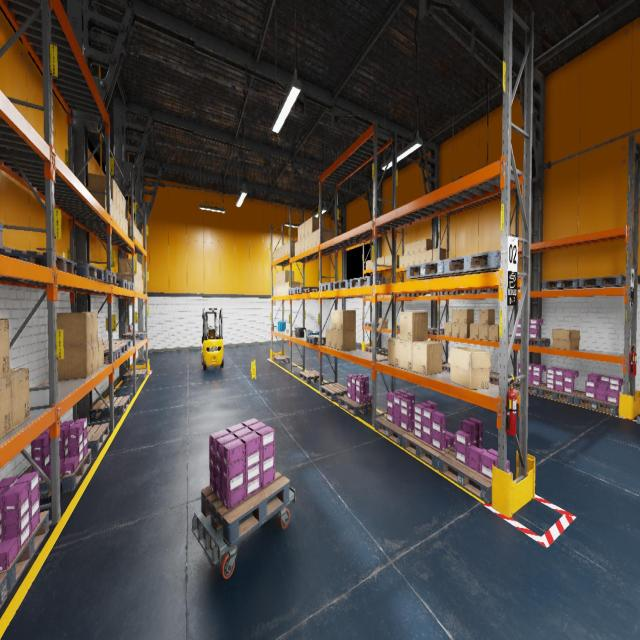box: (448, 347, 491, 389), (58, 343, 93, 381), (10, 368, 30, 430), (56, 312, 92, 346), (63, 312, 98, 342), (412, 340, 442, 375), (88, 173, 116, 205), (400, 312, 428, 341), (0, 375, 11, 438), (551, 329, 580, 350), (0, 318, 10, 378), (85, 186, 106, 211), (336, 330, 356, 351), (399, 340, 412, 371), (336, 310, 356, 330), (388, 337, 399, 367), (119, 258, 137, 276), (308, 216, 324, 235), (317, 227, 333, 245), (479, 309, 495, 325), (459, 309, 474, 323), (459, 323, 473, 338), (98, 339, 104, 369), (488, 325, 499, 341), (93, 340, 98, 372), (420, 239, 432, 252), (115, 273, 132, 282), (288, 282, 300, 294), (433, 248, 445, 260), (283, 270, 294, 283), (452, 309, 463, 322), (479, 325, 488, 340), (470, 324, 479, 339), (331, 329, 337, 349), (331, 310, 337, 329), (444, 322, 452, 336), (288, 241, 297, 253), (125, 218, 131, 235), (116, 184, 120, 209), (389, 255, 399, 265), (452, 323, 459, 337), (326, 328, 331, 347), (379, 318, 388, 328), (113, 201, 117, 223), (312, 230, 317, 247), (116, 206, 120, 226), (420, 251, 426, 263), (409, 242, 415, 254), (122, 195, 125, 218), (427, 249, 432, 262), (415, 240, 420, 253), (404, 243, 409, 256), (308, 233, 312, 249), (415, 252, 420, 264), (404, 255, 409, 266), (399, 256, 404, 267), (125, 218, 128, 236), (410, 253, 414, 266), (305, 220, 308, 237), (301, 222, 304, 239), (305, 235, 308, 251), (120, 190, 122, 213), (111, 198, 113, 219), (301, 238, 304, 252), (120, 210, 122, 230), (384, 255, 388, 265), (285, 242, 288, 255), (123, 214, 125, 233), (385, 277, 390, 284), (137, 260, 139, 276), (298, 224, 300, 240), (137, 277, 139, 292), (381, 256, 384, 266), (377, 257, 380, 267), (366, 260, 369, 270), (140, 278, 142, 292), (140, 264, 142, 278), (298, 240, 300, 254), (295, 242, 297, 256), (138, 230, 140, 243), (280, 245, 282, 258), (285, 282, 287, 295), (283, 244, 285, 256), (276, 248, 278, 260), (274, 249, 276, 261), (282, 283, 284, 295), (280, 283, 282, 295), (278, 284, 280, 296), (276, 284, 278, 296), (280, 272, 282, 284), (278, 272, 280, 284), (276, 272, 278, 284), (278, 247, 280, 258), (274, 285, 276, 296), (370, 260, 372, 269), (136, 276, 137, 292), (139, 262, 140, 278), (135, 224, 136, 238), (139, 278, 140, 292), (142, 279, 143, 293), (140, 232, 141, 245), (137, 228, 138, 240), (289, 331, 293, 334), (285, 329, 289, 332), (293, 331, 295, 335), (134, 224, 134, 236), (142, 234, 142, 247), (135, 275, 135, 291)
forklift: (202, 308, 224, 370)
pallets: (202, 470, 290, 547), (0, 510, 49, 594), (439, 449, 511, 504), (26, 448, 91, 499), (402, 431, 455, 470), (444, 250, 519, 275), (0, 249, 74, 274), (375, 416, 413, 446), (407, 260, 462, 280), (574, 392, 619, 415), (90, 395, 129, 420), (538, 385, 581, 404), (339, 395, 372, 416), (87, 423, 109, 453), (74, 262, 103, 282), (578, 276, 626, 288), (509, 380, 546, 395), (320, 383, 347, 401), (350, 276, 385, 288), (542, 279, 582, 289), (513, 337, 550, 347), (104, 343, 128, 356), (123, 369, 147, 382), (299, 370, 323, 383), (490, 372, 510, 385), (104, 347, 120, 363), (0, 572, 7, 608), (104, 339, 130, 348), (334, 280, 356, 290), (306, 334, 326, 345), (122, 332, 147, 340), (102, 270, 116, 284), (320, 282, 339, 291), (112, 279, 128, 289), (273, 355, 290, 364), (114, 282, 133, 290), (294, 287, 319, 293), (428, 328, 444, 334), (456, 290, 477, 294), (0, 222, 3, 249), (478, 289, 498, 293), (366, 347, 382, 352), (442, 363, 450, 372), (365, 322, 379, 327), (404, 293, 424, 296), (288, 288, 296, 294), (440, 291, 456, 294), (396, 294, 407, 297), (397, 325, 399, 331)
